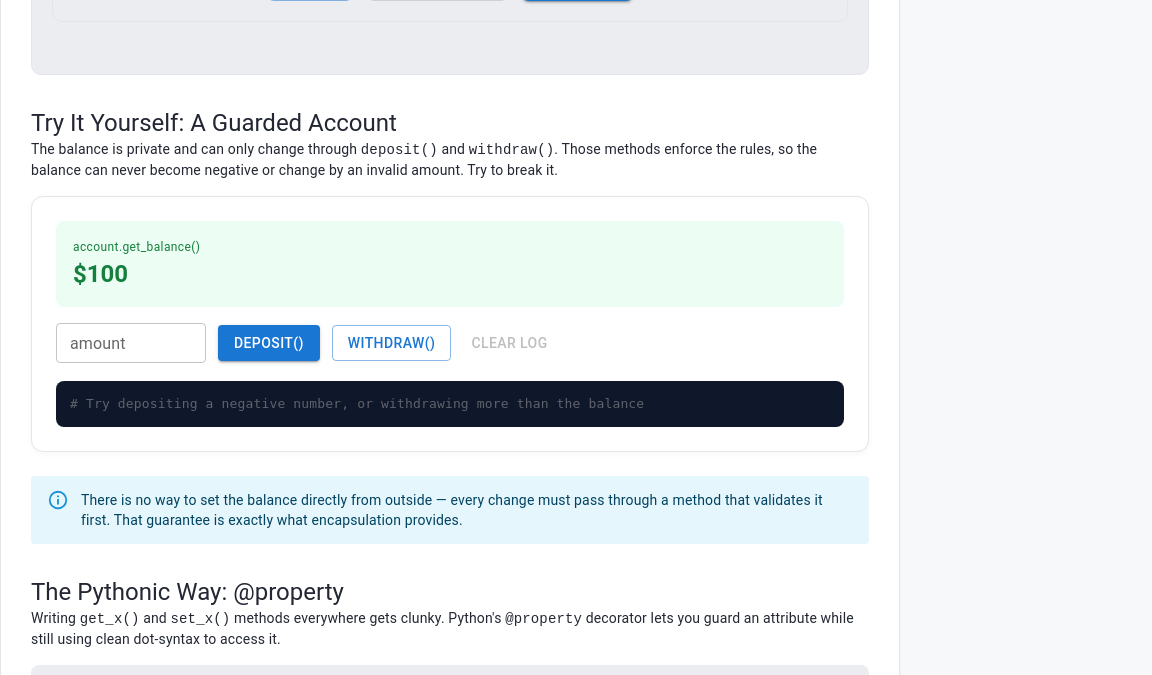
Test: EncapsulationConcept › rejects an overdraw
This screenshot has width=1152, height=675.
(page scrolled)
Type "999" into the number field. click: [131, 343]
box: [56, 323, 206, 363]
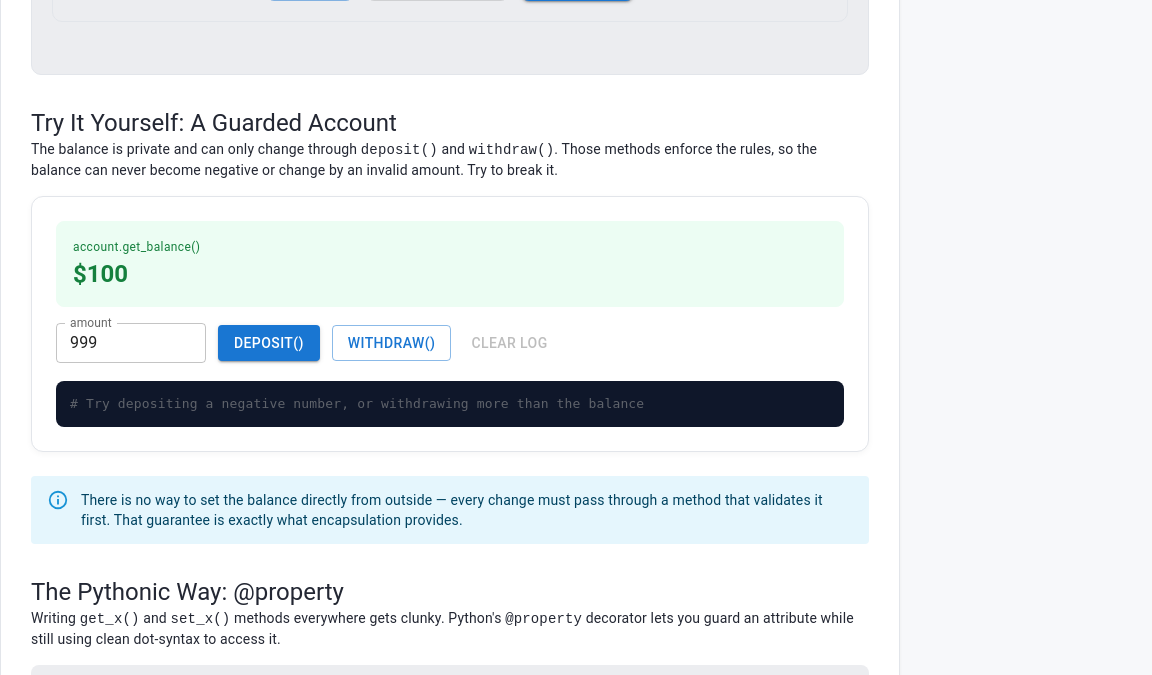
Click the button "withdraw()". click: [392, 343]
box: [332, 324, 451, 361]
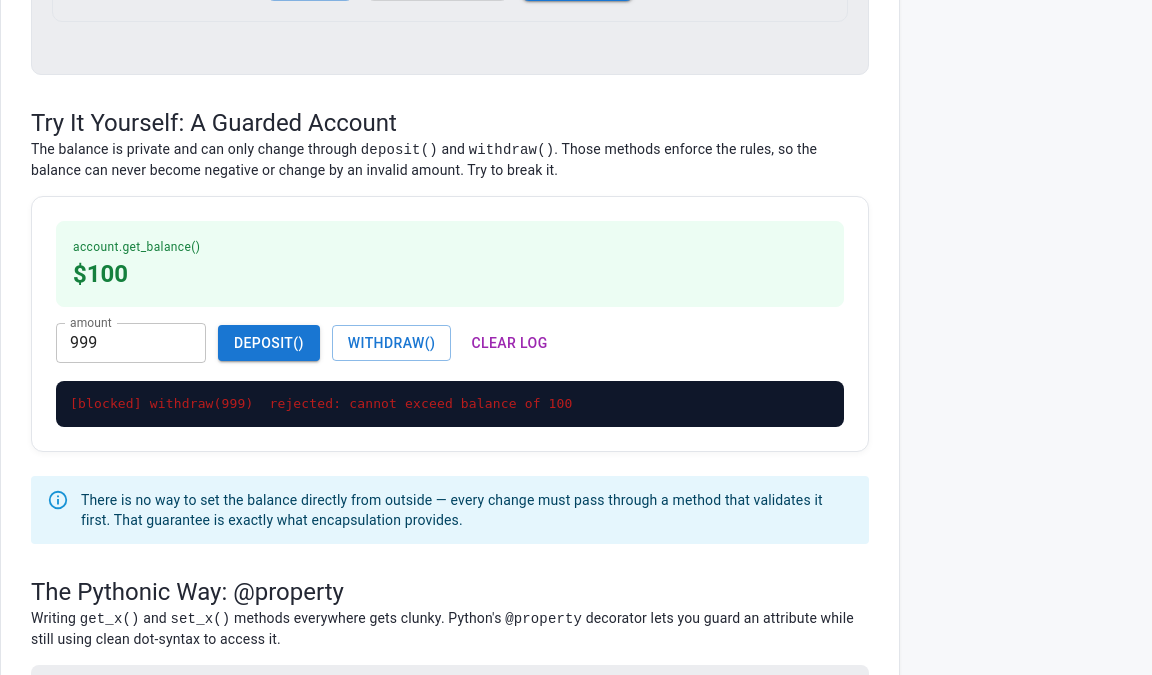
Check: the text "cannot exceed" is shown, box [150, 396, 573, 411]
